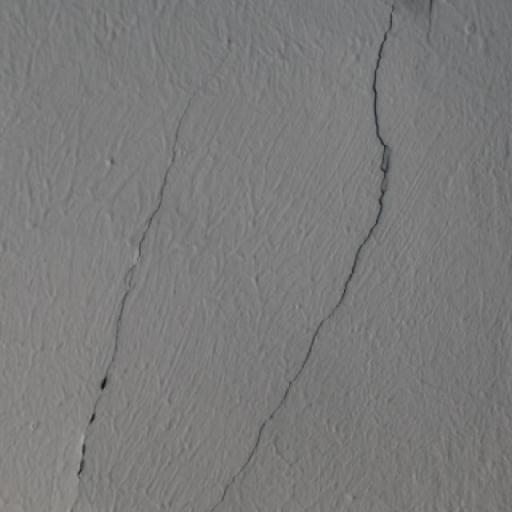moderate crack: (66, 77, 200, 512)
severe crack: (211, 0, 404, 512)
